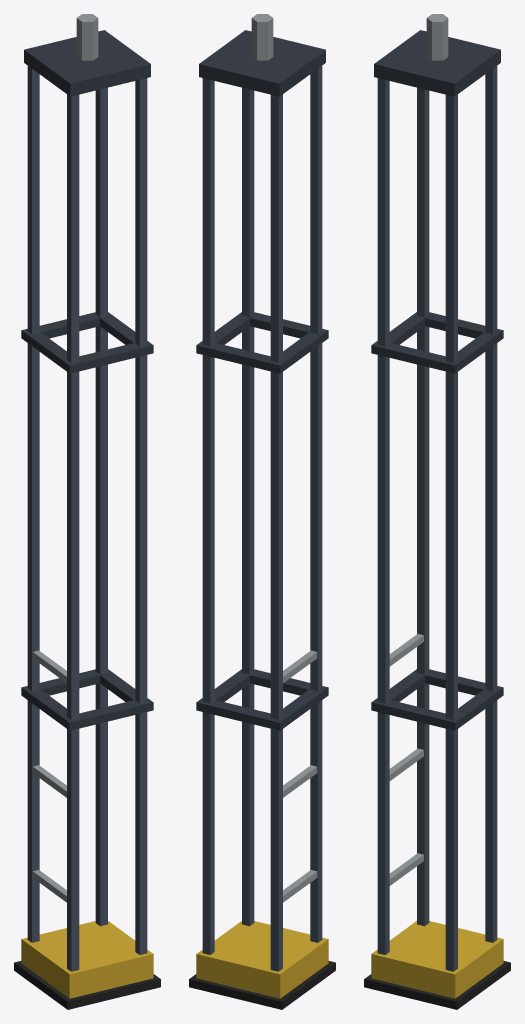
The model's file is big_pole.obj.
3 views of the same model, side by side, from view 1: azimuth 30°, elevation 25°; view 2: azimuth 150°, elevation 25°; view 3: azimuth 330°, elevation 25° (orthographic).
Visible parts, largest first — view 1: body; view 2: body; view 3: body.
Boxes of the visible parts, bbox=[...] form: body: bbox=[14, 14, 160, 1009]; body: bbox=[189, 14, 335, 1009]; body: bbox=[364, 14, 510, 1009].
Bounding box in the file's own units: 0.6 × 5.92 × 0.6.
